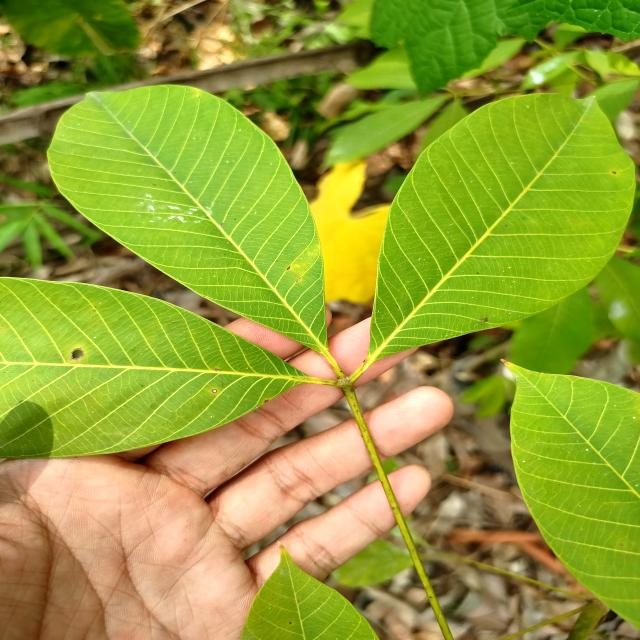Colletotrichum: (70, 348, 84, 360), (212, 389, 217, 394), (264, 400, 268, 402)
